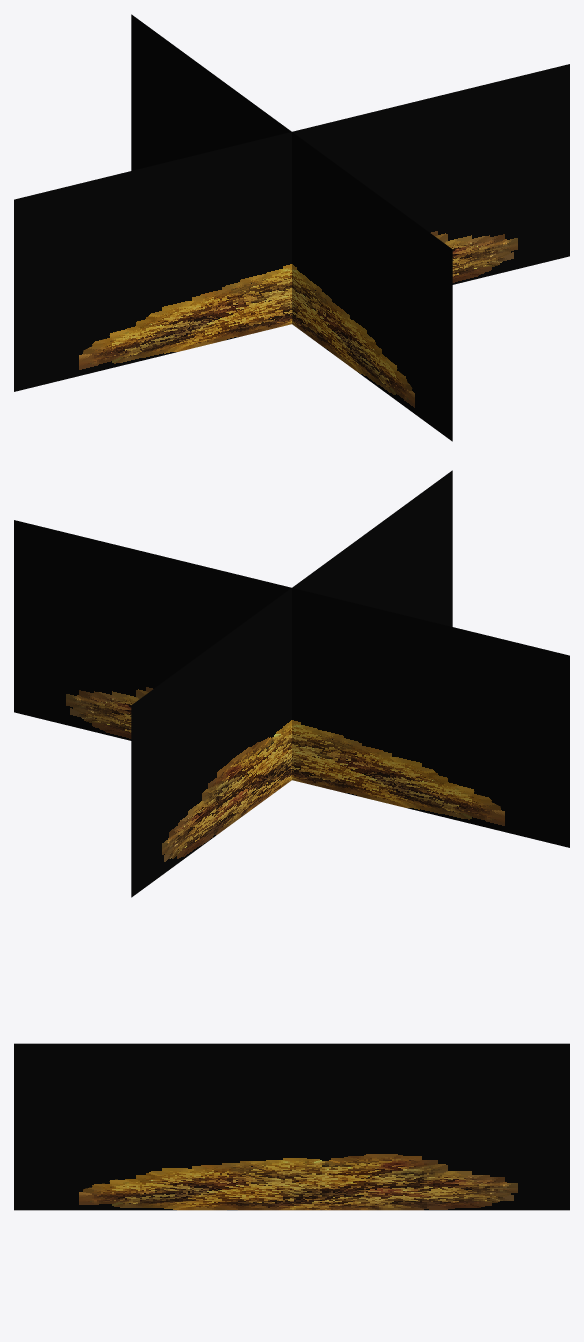
File: bush_v2_04.glb
3 views of the same model, one above another, from view 1: azimuth 30°, elevation 25°; view 2: azimuth 150°, elevation 25°; view 3: azimuth 270°, elevation 25° (orthographic). The views are drawn at different scales.
Parts seen in each view (by area): view 1: bush_v2_04; view 2: bush_v2_04; view 3: bush_v2_04.
Part boxes in pixels (box(x1,y1,x2,y2)): bush_v2_04: box(14, 14, 569, 441); bush_v2_04: box(14, 470, 569, 897); bush_v2_04: box(14, 1043, 569, 1210).
Size of the model in its own units: 6.2 by 2.05 by 6.2.
Materials: 1 (1 with a texture image).
